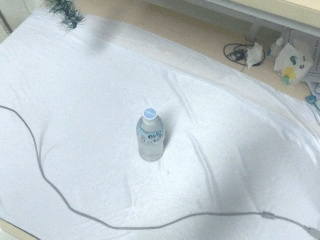bottle: (135, 107, 167, 161)
